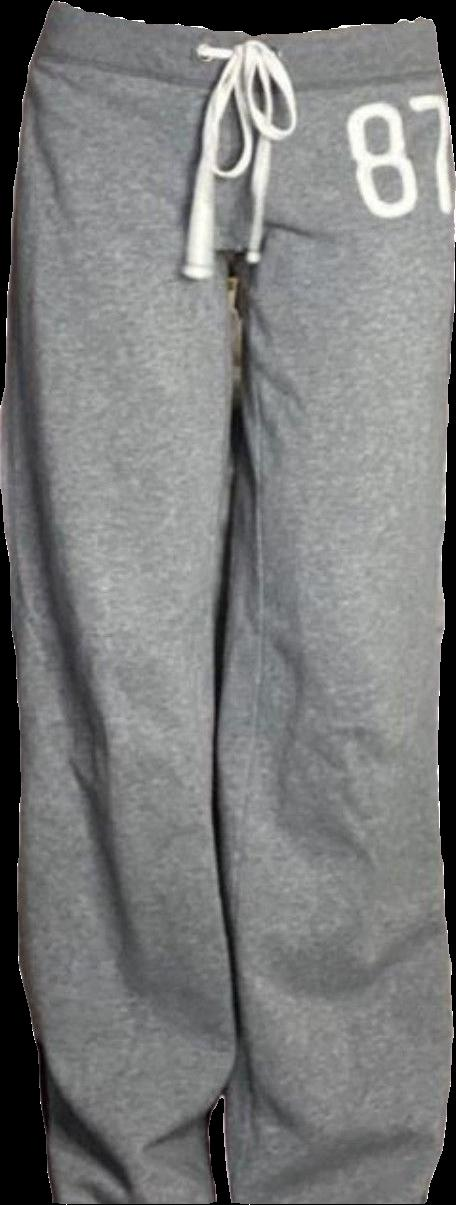Hemline: (231, 1186, 433, 1204), (50, 1188, 224, 1204)
Pantleg: (0, 3, 247, 1204), (216, 18, 455, 1201)
Waistline: (28, 44, 447, 102), (54, 0, 439, 45)
